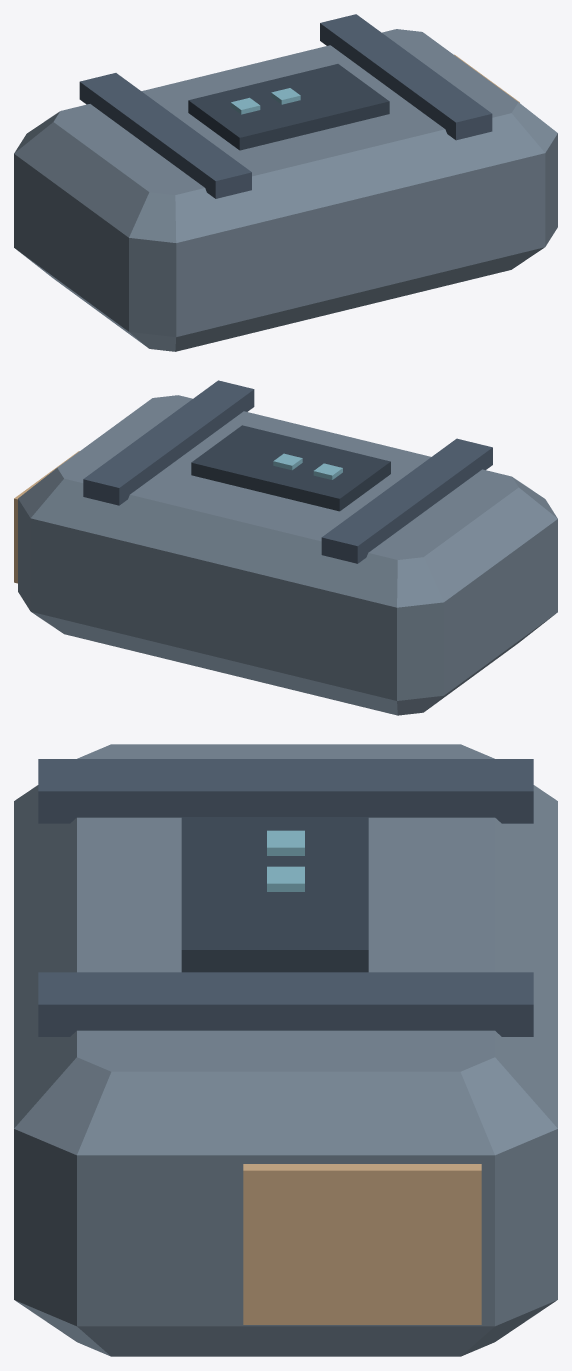
File: battery-base.glb
The picture shows the model from 3 angles, top to bottom: view 1: azimuth 30°, elevation 25°; view 2: azimuth 150°, elevation 25°; view 3: azimuth 270°, elevation 25°; orthographic projection. The views are drawn at different scales.
Parts seen in each view (by area): view 1: 000_battery_pack, 003_cell_status, 001_retaining_straps, 002_retaining_straps; view 2: 000_battery_pack, 003_cell_status, 001_retaining_straps, 002_retaining_straps, 006_power_connector; view 3: 000_battery_pack, 006_power_connector, 002_retaining_straps, 001_retaining_straps, 003_cell_status, 004_charge_indicator, 005_charge_indicator.
Part boxes in pixels (x1=…): 000_battery_pack: x1=14, y1=29, x2=557, y2=351; 003_cell_status: x1=188, y1=64, x2=389, y2=150; 001_retaining_straps: x1=79, y1=73, x2=251, y2=198; 002_retaining_straps: x1=320, y1=14, x2=492, y2=140; 000_battery_pack: x1=18, y1=395, x2=557, y2=715; 003_cell_status: x1=191, y1=425, x2=390, y2=511; 001_retaining_straps: x1=321, y1=438, x2=492, y2=563; 002_retaining_straps: x1=83, y1=380, x2=254, y2=505; 006_power_connector: x1=14, y1=451, x2=79, y2=583; 000_battery_pack: x1=14, y1=744, x2=557, y2=1356; 006_power_connector: x1=243, y1=1164, x2=481, y2=1324; 002_retaining_straps: x1=38, y1=972, x2=533, y2=1036; 001_retaining_straps: x1=38, y1=759, x2=533, y2=823; 003_cell_status: x1=181, y1=817, x2=368, y2=972; 004_charge_indicator: x1=267, y1=830, x2=304, y2=855; 005_charge_indicator: x1=267, y1=866, x2=304, y2=891.
Size of the model in its own units: 1.08 by 0.4126 by 0.64.
